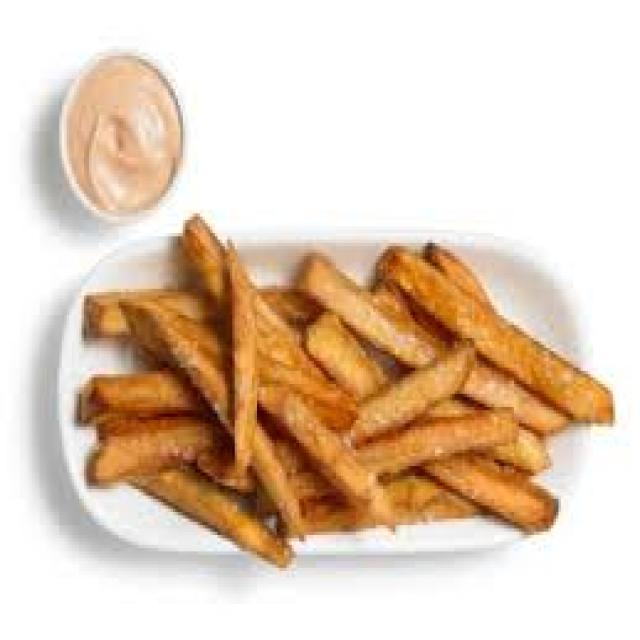감자튀김: (49, 204, 616, 564)
